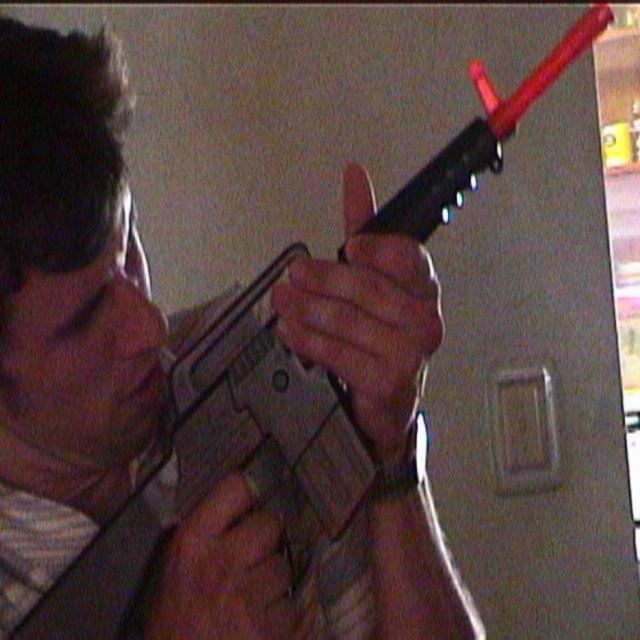weapon: (1, 0, 613, 639)
